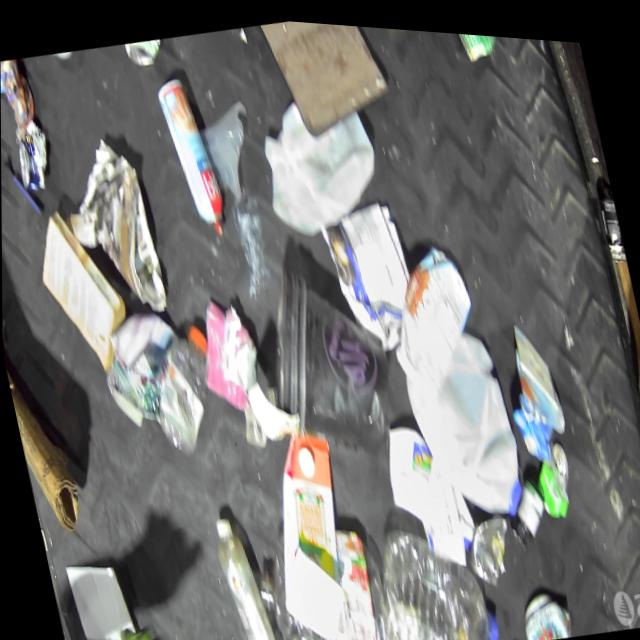can: (528, 426, 579, 512), (513, 578, 574, 638), (12, 126, 58, 195), (440, 26, 504, 63), (122, 34, 168, 70)
milk_jug: (395, 312, 532, 528), (248, 80, 390, 243)
plastic_bottle: (367, 500, 503, 640), (141, 316, 230, 456), (207, 504, 287, 640)
